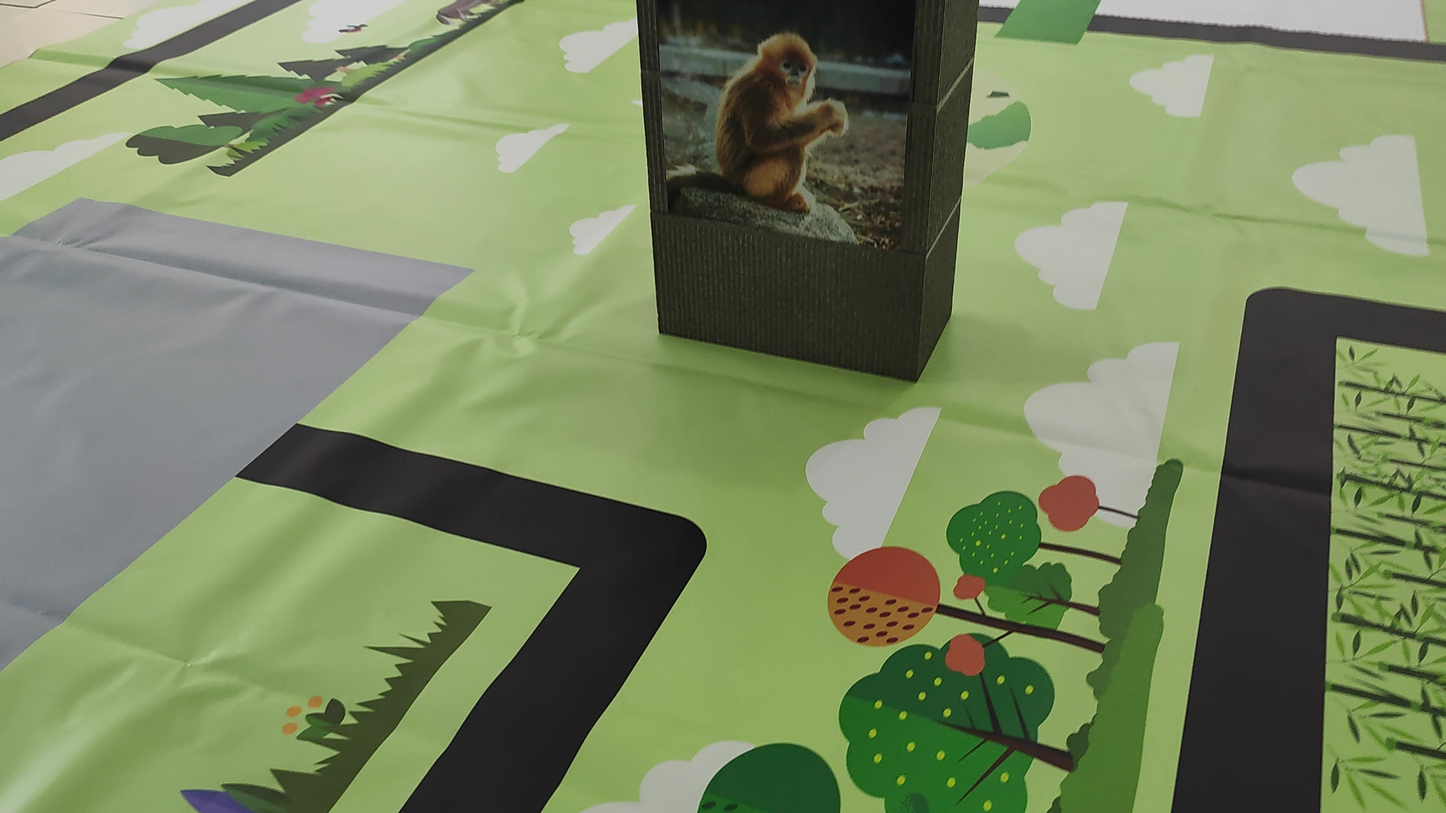monkey: (671, 5, 909, 230)
